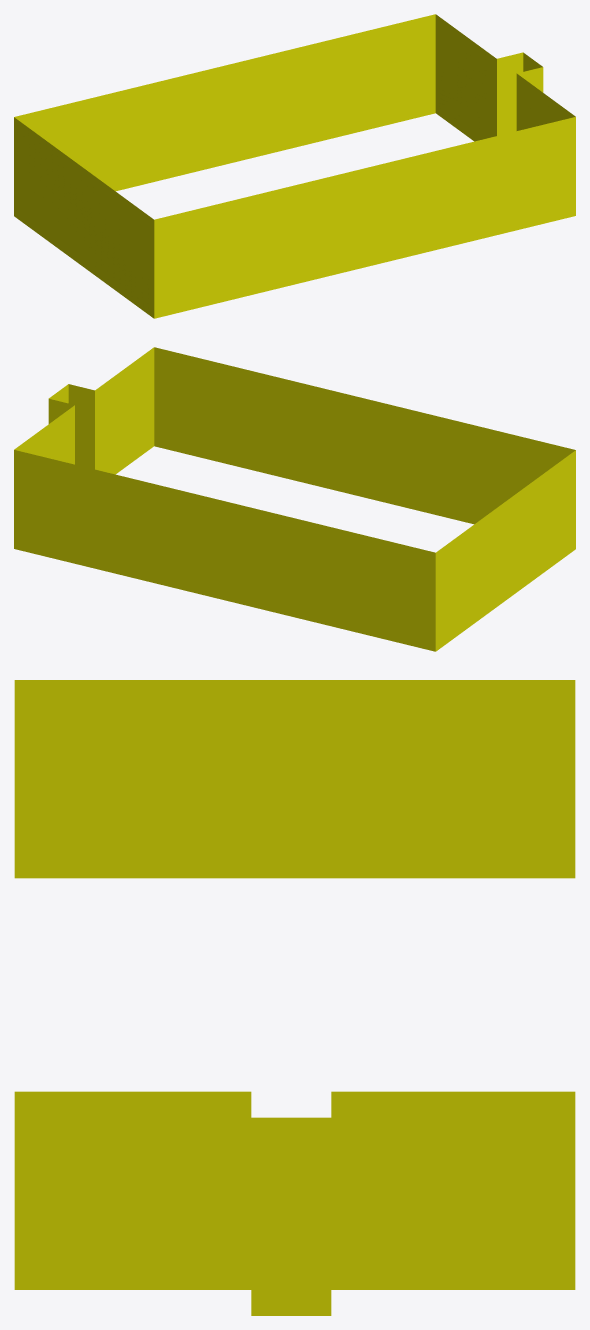
Rendered from SoccerRecordCollider.fbx.
The picture shows the model from 3 angles, top to bottom: view 1: azimuth 30°, elevation 25°; view 2: azimuth 150°, elevation 25°; view 3: azimuth 270°, elevation 25°; orthographic projection. The views are drawn at different scales.
Parts seen in each view (by area): view 1: Model; view 2: Model; view 3: Model.
Part boxes in pixels (x1=…): Model: x1=14, y1=14, x2=575, y2=318; Model: x1=14, y1=347, x2=575, y2=651; Model: x1=14, y1=680, x2=575, y2=1315.
Bounding box in the file's own units: 4.92 × 1.04 × 2.67.
